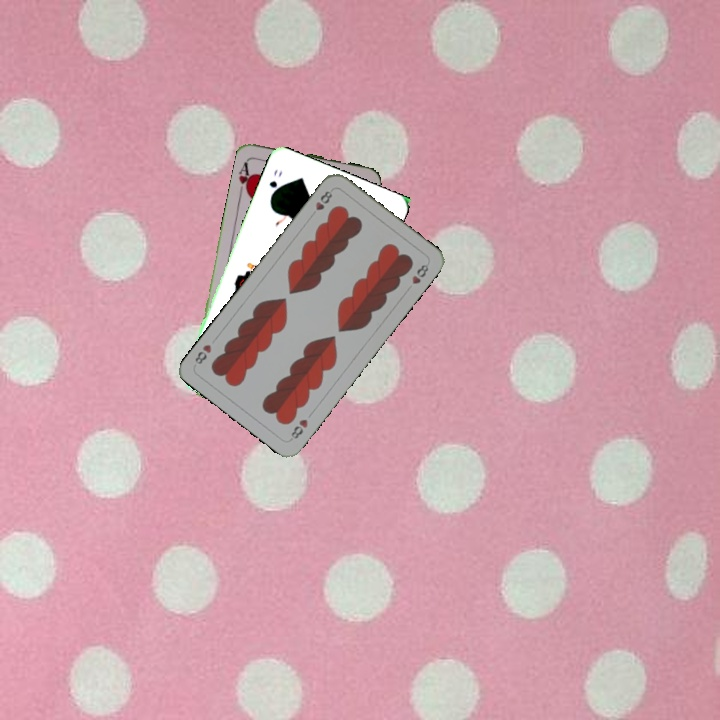GO: (265, 166, 285, 201)
H8: (286, 415, 311, 443), (311, 187, 335, 213)
HA: (235, 156, 255, 198)
